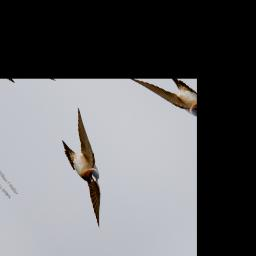Swallow: (25, 105, 154, 228)
